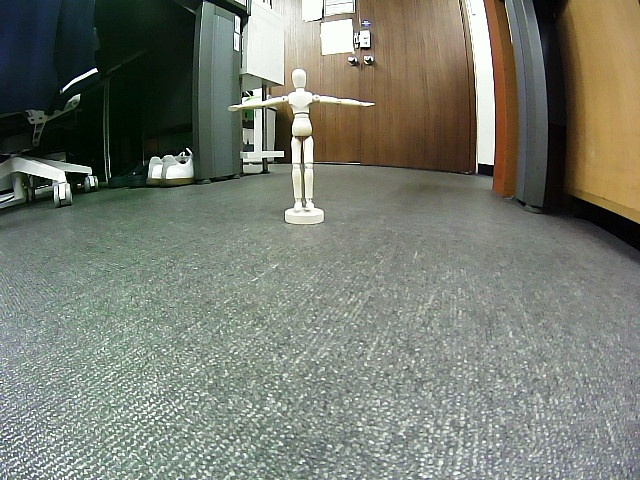person: (227, 69, 375, 211)
